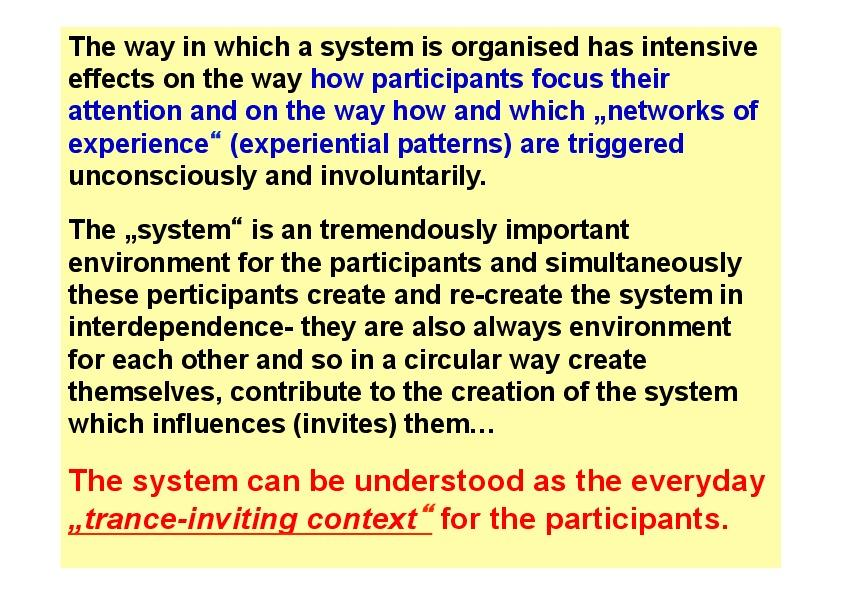paragraph: (62, 27, 789, 574)
